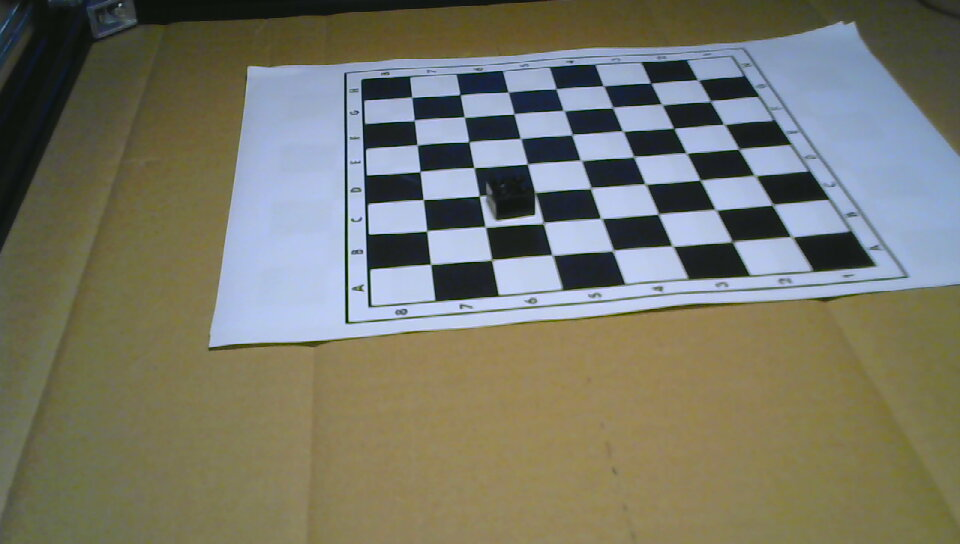bp: (483, 176, 538, 221)
